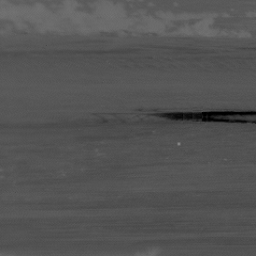Target: (176, 141, 183, 148)
